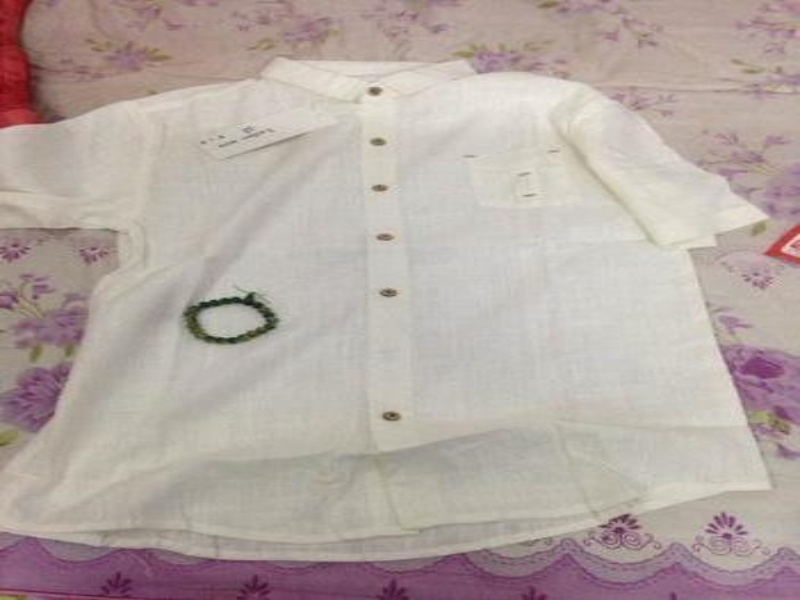short_sleeved_shirt: (0, 54, 779, 567)
